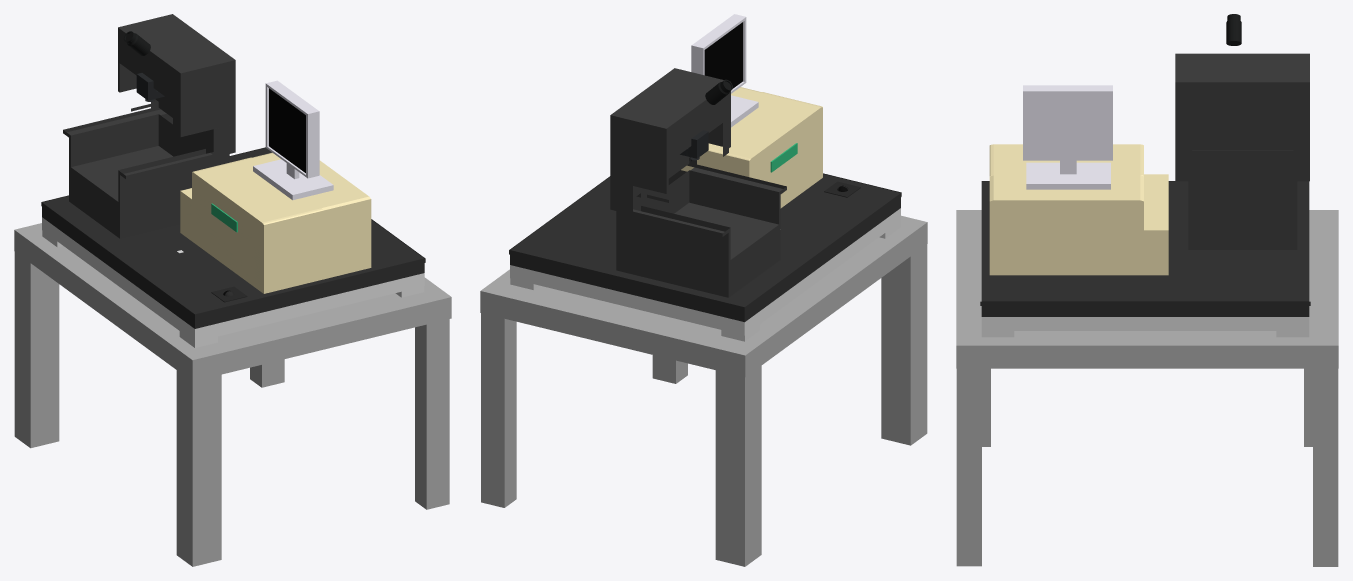
The model's file is Contact aligner.fbx.
3 renders of one model, left to right at view 1: azimuth 30°, elevation 25°; view 2: azimuth 150°, elevation 25°; view 3: azimuth 270°, elevation 25°, orthographic. The views are drawn at different scales.
Visible parts, largest first — view 1: table, base, 조작기계, 큐브.002, 큐브.008, computer; view 2: table, base, 큐브.002, 조작기계, 큐브.008, computer; view 3: table, base, 큐브.002, 조작기계, computer, 큐브.008, microscomicroscope.
Part boxes in pixels (x1,y1,x2,y2): table: (14, 223, 451, 566); base: (63, 14, 235, 238); 조작기계: (180, 152, 371, 293); 큐브.002: (41, 147, 425, 328); 큐브.008: (42, 217, 424, 347); computer: (253, 80, 333, 200); table: (480, 215, 927, 566); base: (610, 68, 786, 297); 큐브.002: (509, 173, 901, 322); 조작기계: (681, 87, 822, 208); 큐브.008: (510, 208, 900, 341); computer: (691, 14, 758, 127); table: (956, 210, 1338, 566); base: (1175, 53, 1309, 249); 큐브.002: (980, 181, 1310, 316); 조작기계: (989, 144, 1168, 275); computer: (1023, 85, 1112, 189); 큐브.008: (981, 317, 1309, 337); microscomicroscope: (1226, 14, 1241, 45).
Size of the model in its own units: 228 by 356 by 272.
